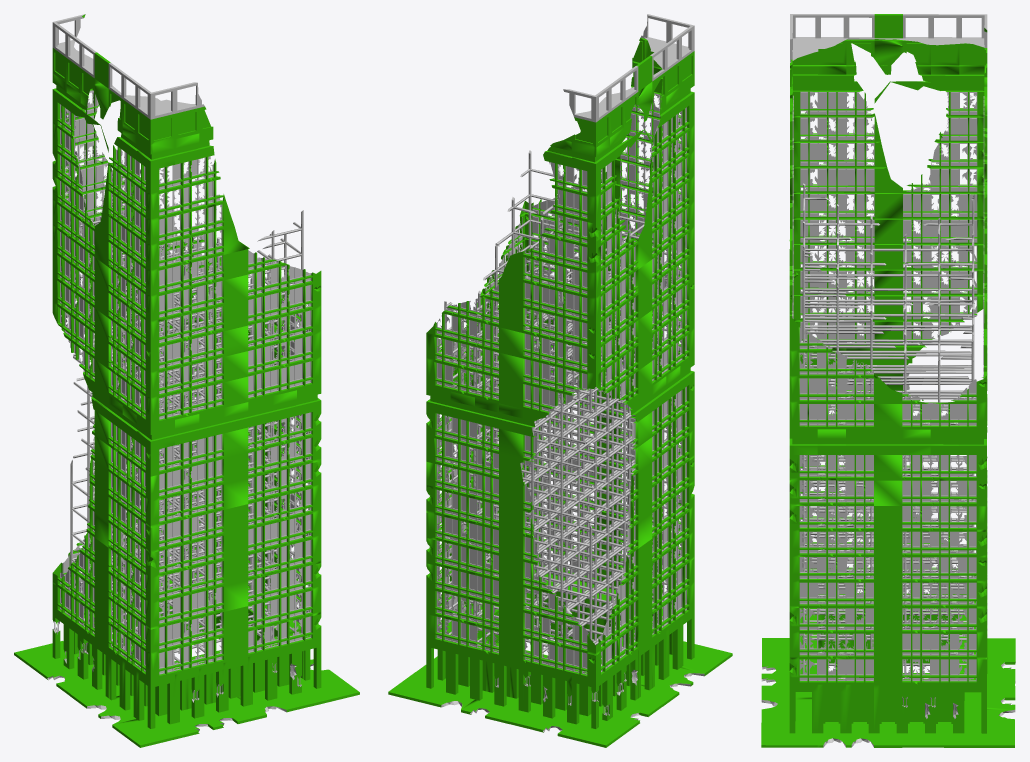
Rendered from post_apocalyptic_buildings_4.fbx.
The picture shows the model from 3 angles, left to right: view 1: azimuth 30°, elevation 25°; view 2: azimuth 150°, elevation 25°; view 3: azimuth 270°, elevation 25°; orthographic projection.
Visible parts, largest first — view 1: post_apocalyptic_buildings_4; view 2: post_apocalyptic_buildings_4; view 3: post_apocalyptic_buildings_4.
Part boxes in pixels (left/top/right/bottom): post_apocalyptic_buildings_4: left=14, top=14, right=359, bottom=747; post_apocalyptic_buildings_4: left=388, top=14, right=732, bottom=747; post_apocalyptic_buildings_4: left=761, top=14, right=1015, bottom=747.
Size of the model in its own units: 81.21 by 225 by 81.21.
